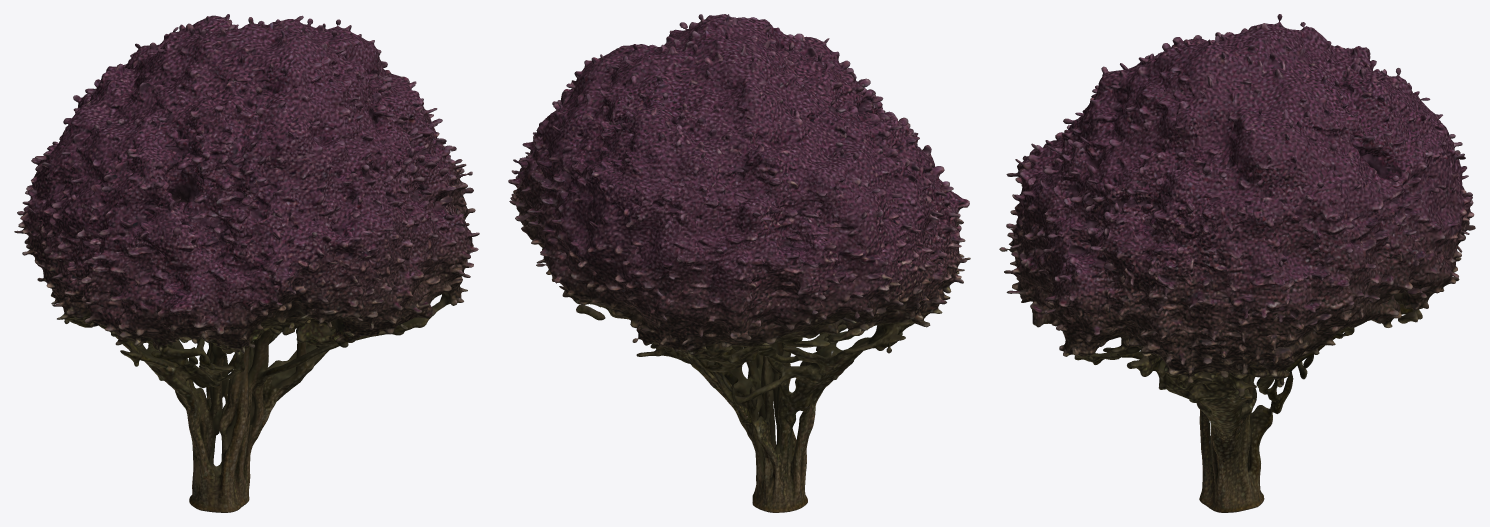
The model's file is planta.glb.
The picture shows the model from 3 angles, left to right: view 1: azimuth 30°, elevation 25°; view 2: azimuth 150°, elevation 25°; view 3: azimuth 270°, elevation 25°; orthographic projection. The views are drawn at different scales.
Visible parts, largest first — view 1: tripo_node_b6b704bb-d4da-444c-b563-52bd0be8d6ae; view 2: tripo_node_b6b704bb-d4da-444c-b563-52bd0be8d6ae; view 3: tripo_node_b6b704bb-d4da-444c-b563-52bd0be8d6ae.
Part boxes in pixels (<box>): tripo_node_b6b704bb-d4da-444c-b563-52bd0be8d6ae: <box>14,14,479,512</box>; tripo_node_b6b704bb-d4da-444c-b563-52bd0be8d6ae: <box>508,14,970,512</box>; tripo_node_b6b704bb-d4da-444c-b563-52bd0be8d6ae: <box>999,14,1475,512</box>.
Bounding box in the file's own units: 0.9299 × 0.9999 × 0.8735.
1 material, 1 textured.
